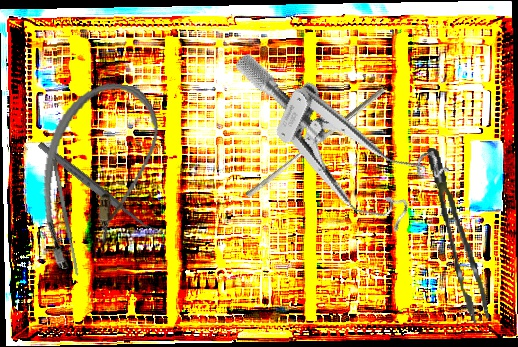Cannula: (29, 74, 167, 281)
Pusher: (245, 81, 386, 204)
Spatula Surgical: (51, 157, 80, 277)
Speculum: (200, 51, 460, 242)
Surgical Spoon: (36, 140, 158, 238)
Tissue Forceps: (427, 143, 490, 328)
